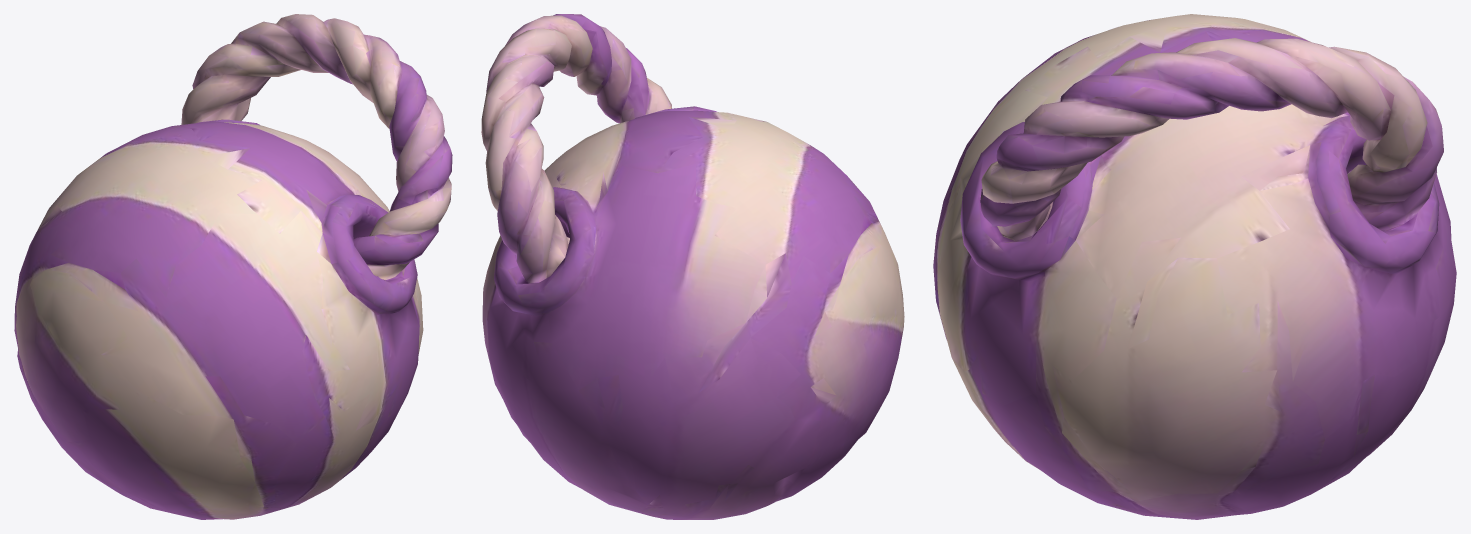
3 renders of one model, left to right at view 1: azimuth 30°, elevation 25°; view 2: azimuth 150°, elevation 25°; view 3: azimuth 270°, elevation 25°, orthographic. The views are drawn at different scales.
Visible parts, largest first — view 1: play-ball; view 2: play-ball; view 3: play-ball.
Boxes of the visible parts, <box> form: play-ball: <box>14,14,452,519</box>; play-ball: <box>481,14,904,519</box>; play-ball: <box>933,14,1456,519</box>.
Size of the model in its own units: 0.3921 by 0.4504 by 0.3925.
1 material, 1 textured.
